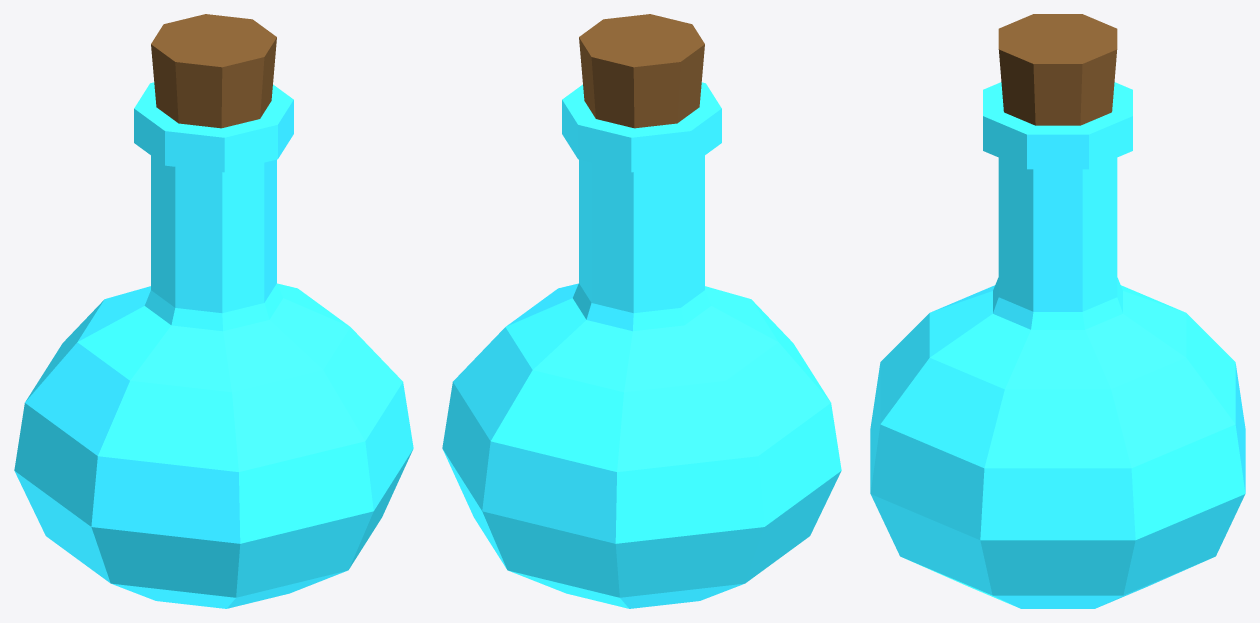
The model's file is Windpotion.fbx.
The picture shows the model from 3 angles, left to right: view 1: azimuth 30°, elevation 25°; view 2: azimuth 150°, elevation 25°; view 3: azimuth 270°, elevation 25°; orthographic projection.
Parts seen in each view (by area): view 1: SimplePotion_Bottle, SimplePotion_Cork; view 2: SimplePotion_Bottle, SimplePotion_Cork; view 3: SimplePotion_Bottle, SimplePotion_Cork.
Part boxes in pixels (x1,y1,x2,y2): SimplePotion_Bottle: (14,82,413,608); SimplePotion_Cork: (151,14,276,128); SimplePotion_Bottle: (442,82,841,608); SimplePotion_Cork: (579,14,704,128); SimplePotion_Bottle: (870,82,1245,608); SimplePotion_Cork: (998,14,1117,125).
Bounding box in the file's own units: 176 × 278 × 176.
